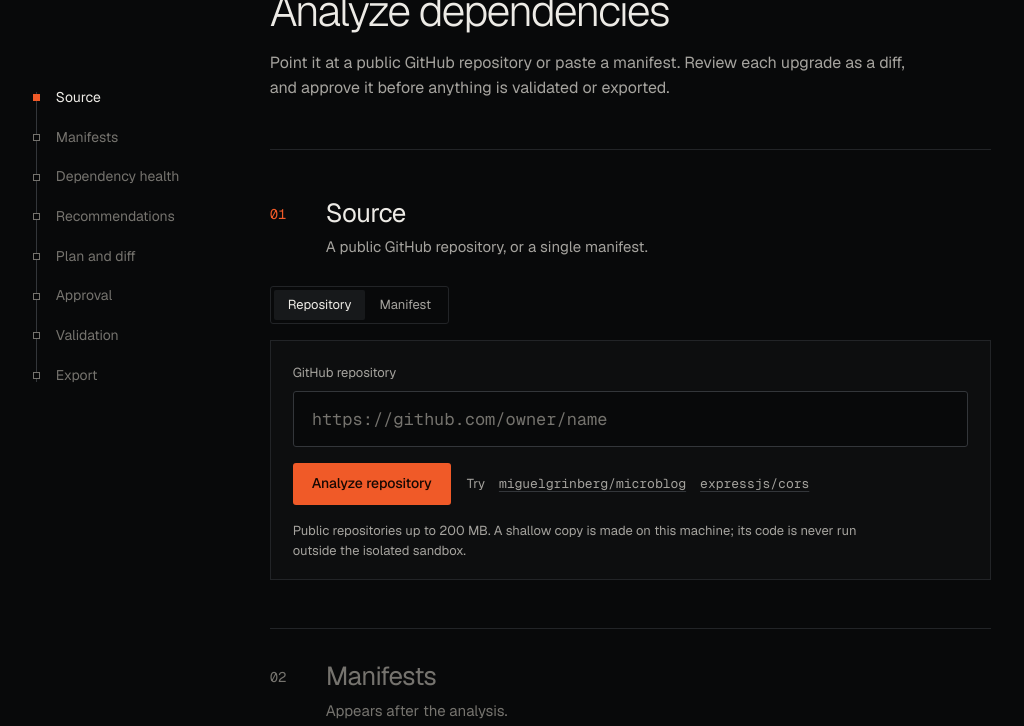
Scenario: ManifestAnalyzer Component › labels rule-based fallback recommendations
Click the tab with test id "source-manifest".
click(405, 305)  # box [366,290,445,320]
(page scrolled)
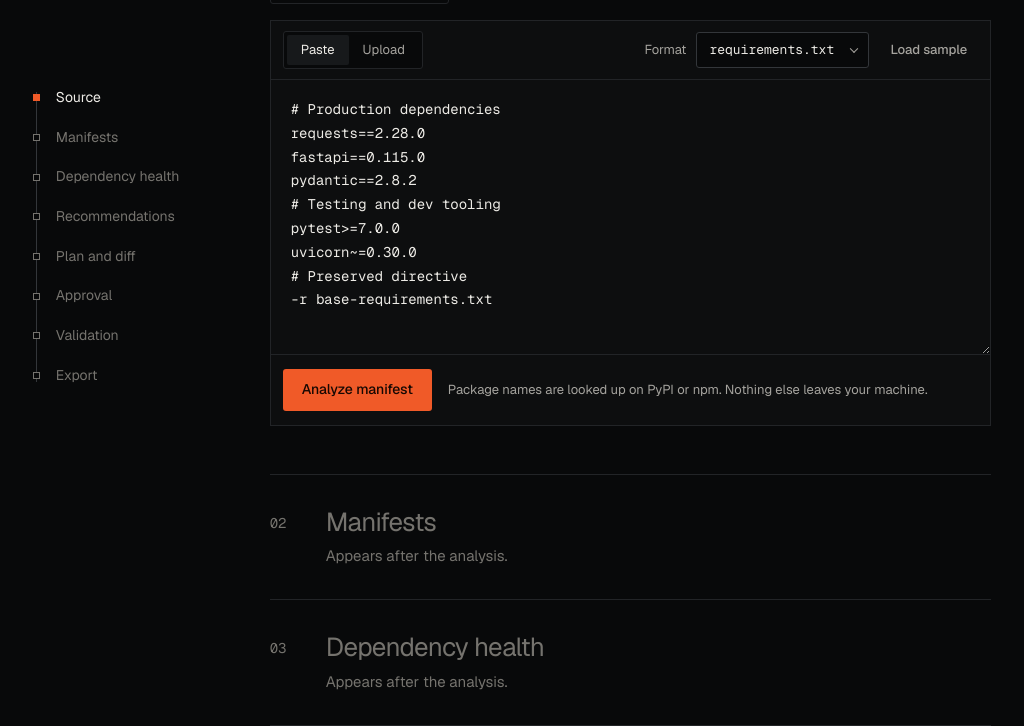
Click the button with test id "btn-analyze".
click(357, 390)  # box [283,369,432,411]
(page scrolled)
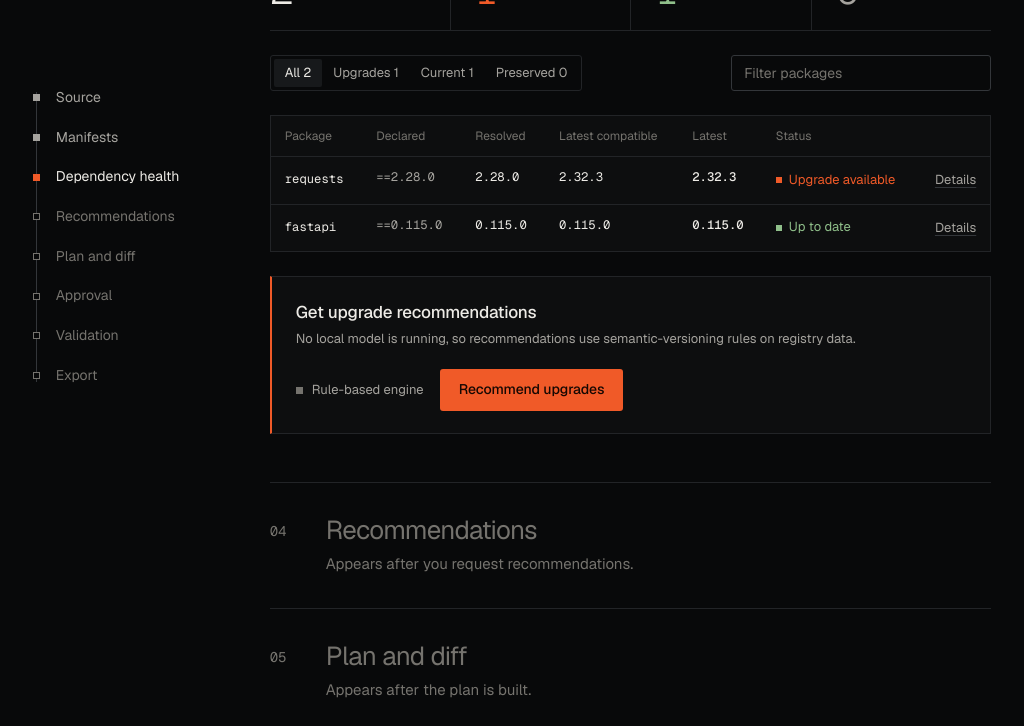
Click the button with test id "btn-generate-recommendations".
click(532, 390)  # box [440,369,623,411]
(page scrolled)
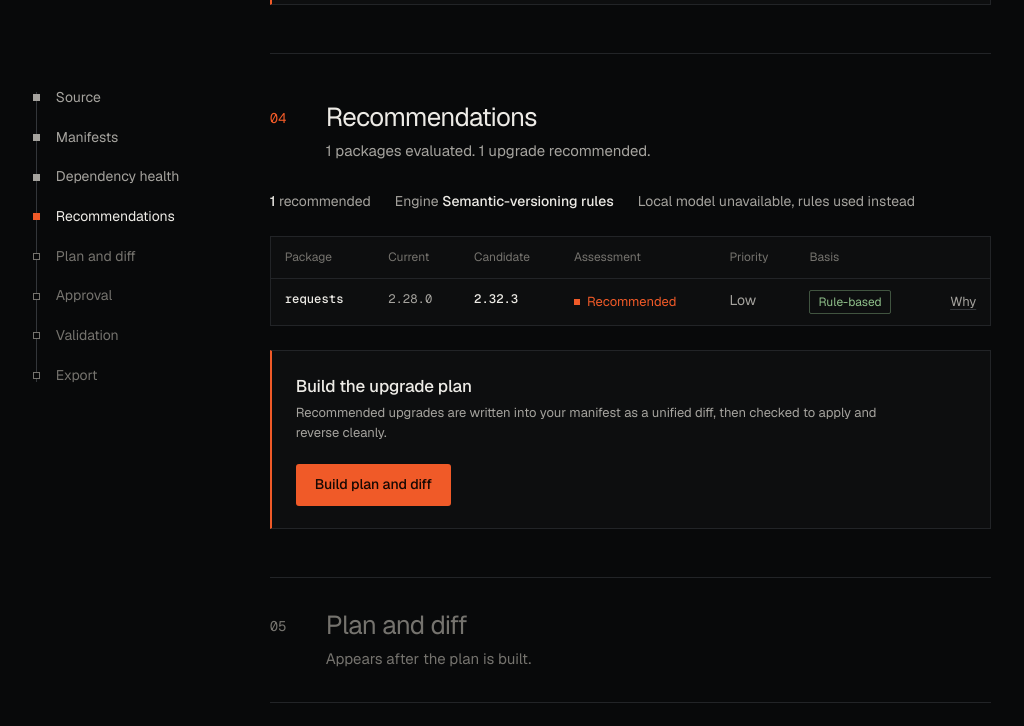
Result: the element with test id "recommendations-results" is shown at [270,191,991,529]
Result: the text with test id "fallback-indicator" shows "rules used instead" at [638,192,915,210]
Result: the text "Rule-based" is shown at [809,290,891,314]
